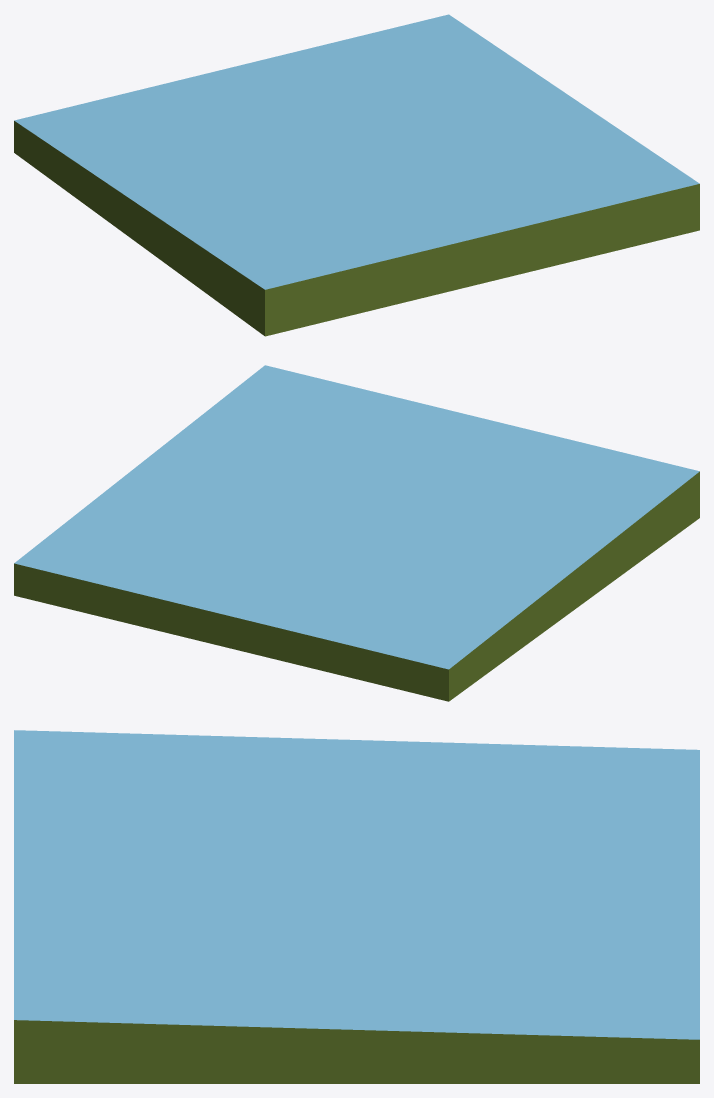
File: base_FullSize.fbx
3 renders of one model, top to bottom at view 1: azimuth 30°, elevation 25°; view 2: azimuth 150°, elevation 25°; view 3: azimuth 270°, elevation 25°, orthographic. The views are drawn at different scales.
Parts seen in each view (by area): view 1: ferias.001; view 2: ferias.001; view 3: ferias.001.
Boxes of the visible parts, bbox=[...] form: ferias.001: bbox=[14, 14, 699, 336]; ferias.001: bbox=[14, 365, 699, 701]; ferias.001: bbox=[14, 730, 699, 1083].
Size of the model in its own units: 432 by 44.29 by 432.
